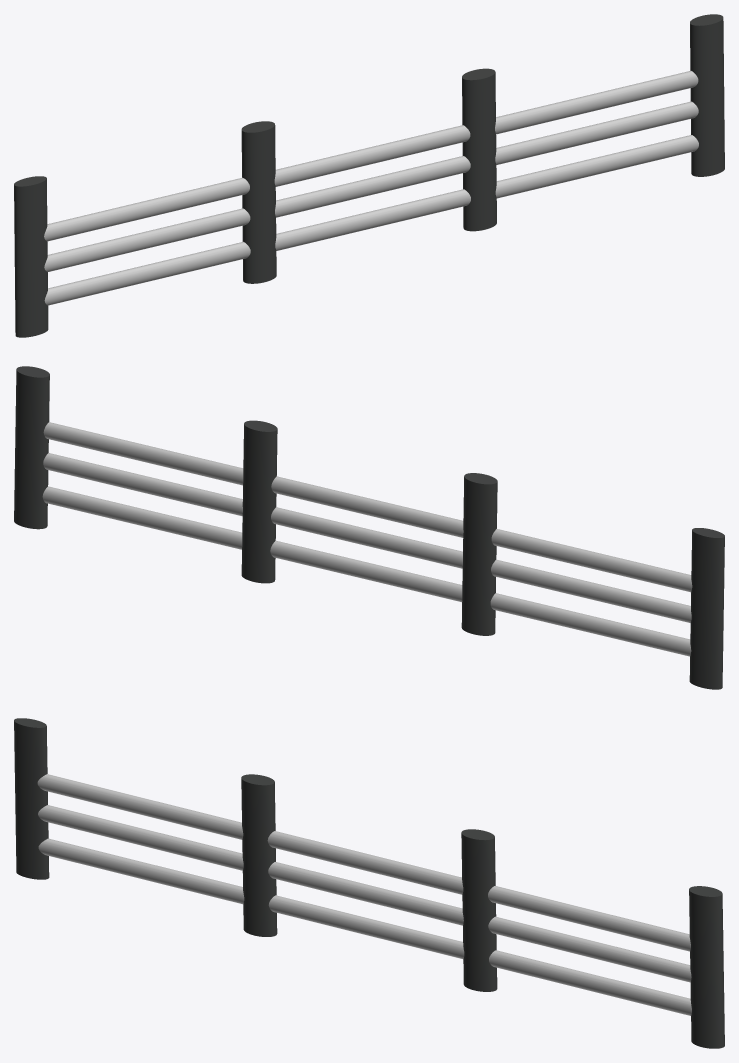
The model's file is Street Fence.fbx.
3 views of the same model, one above another, from view 1: azimuth 30°, elevation 25°; view 2: azimuth 150°, elevation 25°; view 3: azimuth 330°, elevation 25° (orthographic).
Parts seen in each view (by area): view 1: Object_4.004; view 2: Object_4.004; view 3: Object_4.004.
Part boxes in pixels (x1,y1,x2,y2): Object_4.004: [14, 14, 724, 337]; Object_4.004: [14, 366, 724, 689]; Object_4.004: [14, 718, 724, 1048].
Size of the model in its own units: 26.3 by 944 by 198.
